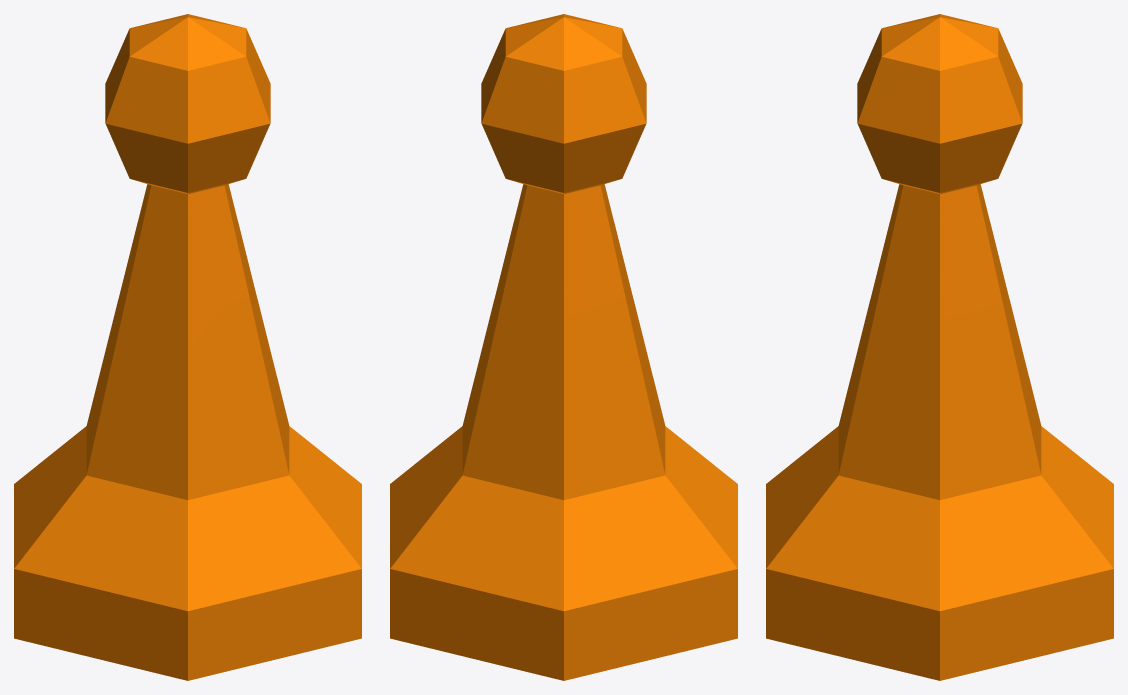
Rendered from Boardgame_Token_Orange_01.fbx.
The picture shows the model from 3 angles, left to right: view 1: azimuth 30°, elevation 25°; view 2: azimuth 150°, elevation 25°; view 3: azimuth 270°, elevation 25°; orthographic projection.
Visible parts, largest first — view 1: Boardgame_Token_Orange_01; view 2: Boardgame_Token_Orange_01; view 3: Boardgame_Token_Orange_01.
Boxes of the visible parts, x1=… form: Boardgame_Token_Orange_01: x1=14, y1=14, x2=361, y2=680; Boardgame_Token_Orange_01: x1=390, y1=14, x2=737, y2=680; Boardgame_Token_Orange_01: x1=766, y1=14, x2=1113, y2=680.
Size of the model in its own units: 957 by 1523 by 829.
